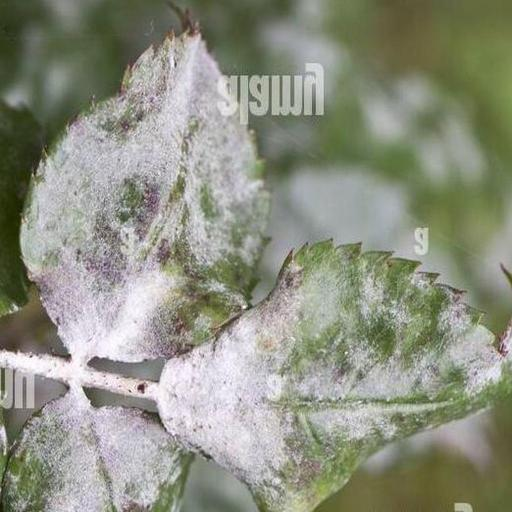powdery_mildew: (158, 241, 512, 512), (21, 32, 268, 362), (2, 390, 192, 512)
